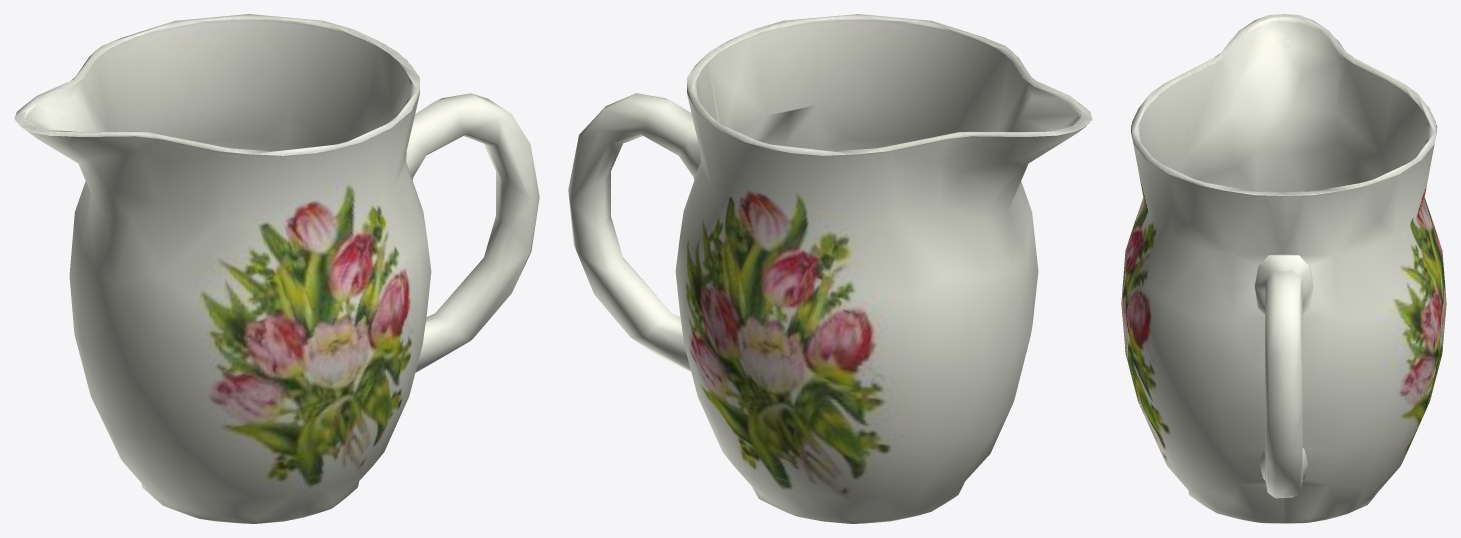
Rendered from obj_jug.glb.
3 views of the same model, side by side, from view 1: azimuth 30°, elevation 25°; view 2: azimuth 150°, elevation 25°; view 3: azimuth 270°, elevation 25° (orthographic). The views are drawn at different scales.
Visible parts, largest first — view 1: obj_jug; view 2: obj_jug; view 3: obj_jug.
Boxes of the visible parts, x1=… form: obj_jug: x1=14, y1=14, x2=539, y2=523; obj_jug: x1=568, y1=14, x2=1092, y2=523; obj_jug: x1=1121, y1=14, x2=1446, y2=523.
Size of the model in its own units: 0.276 by 0.2107 by 0.1679.
1 material, 1 textured.
